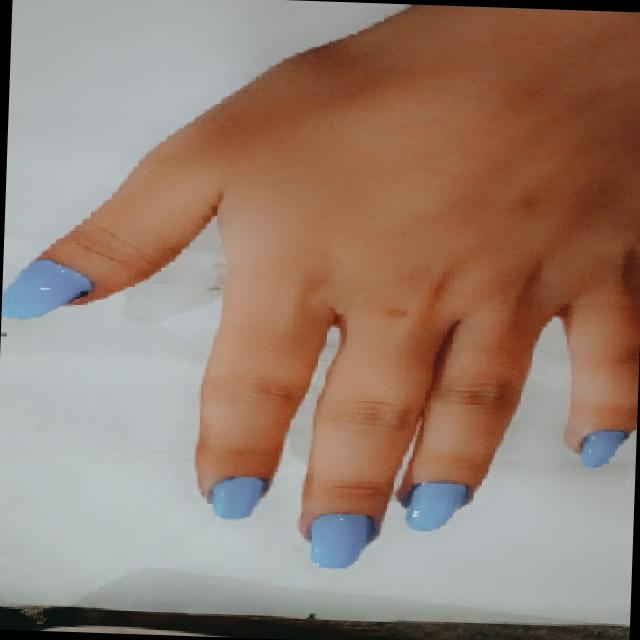Nail: (1, 258, 91, 317), (309, 511, 367, 567), (404, 481, 465, 531), (211, 475, 262, 518), (579, 429, 627, 466)
